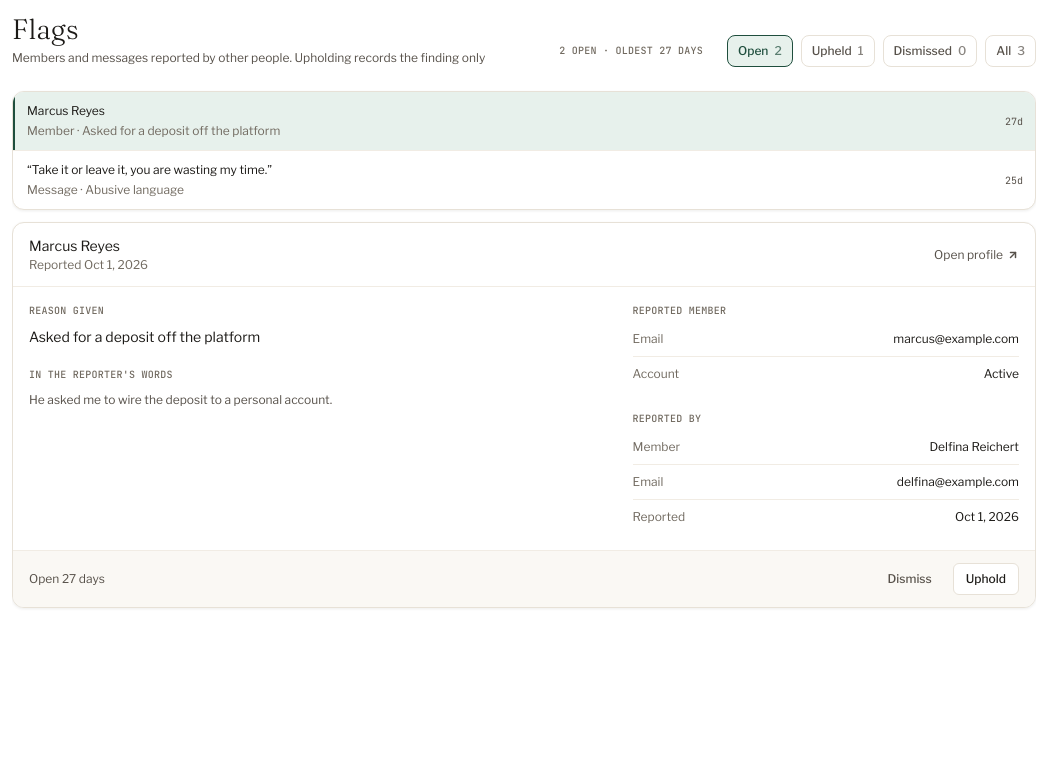
Test: AdminFlagsConsole · reading the queue › says nothing is flagged when the filter matches no report
Step 1. Click the button "Dismissed 0" → (930, 51), box [883, 35, 977, 67]
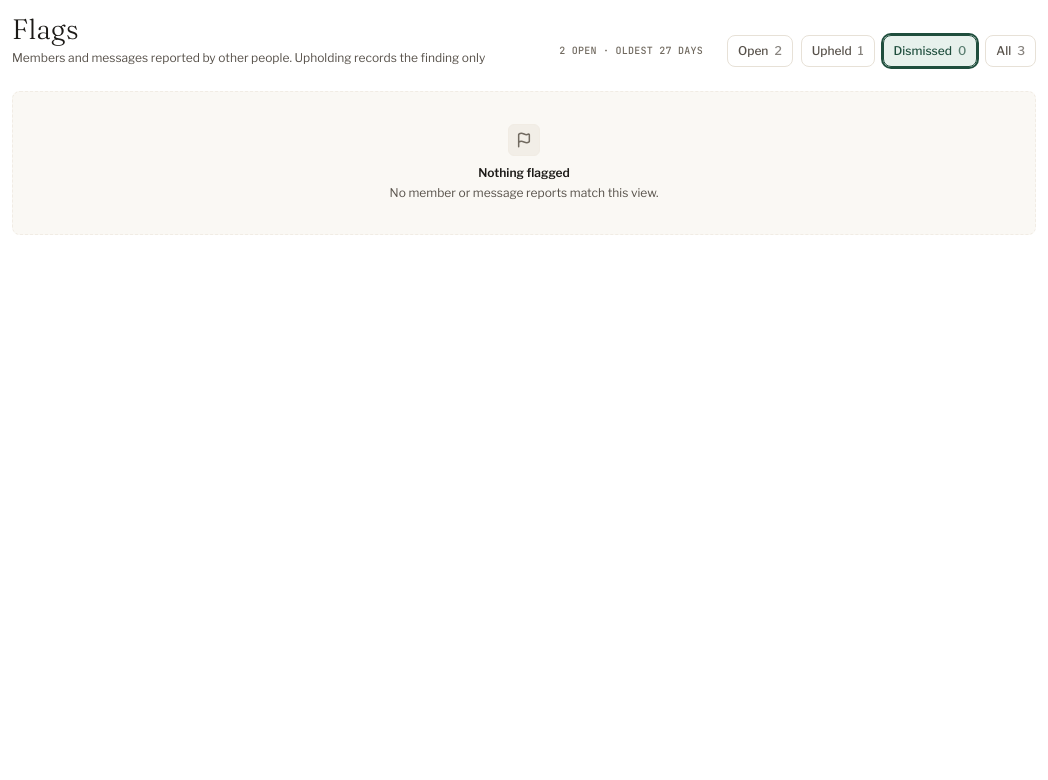
Expected: the text "Nothing flagged" is shown, [478, 165, 570, 180]
